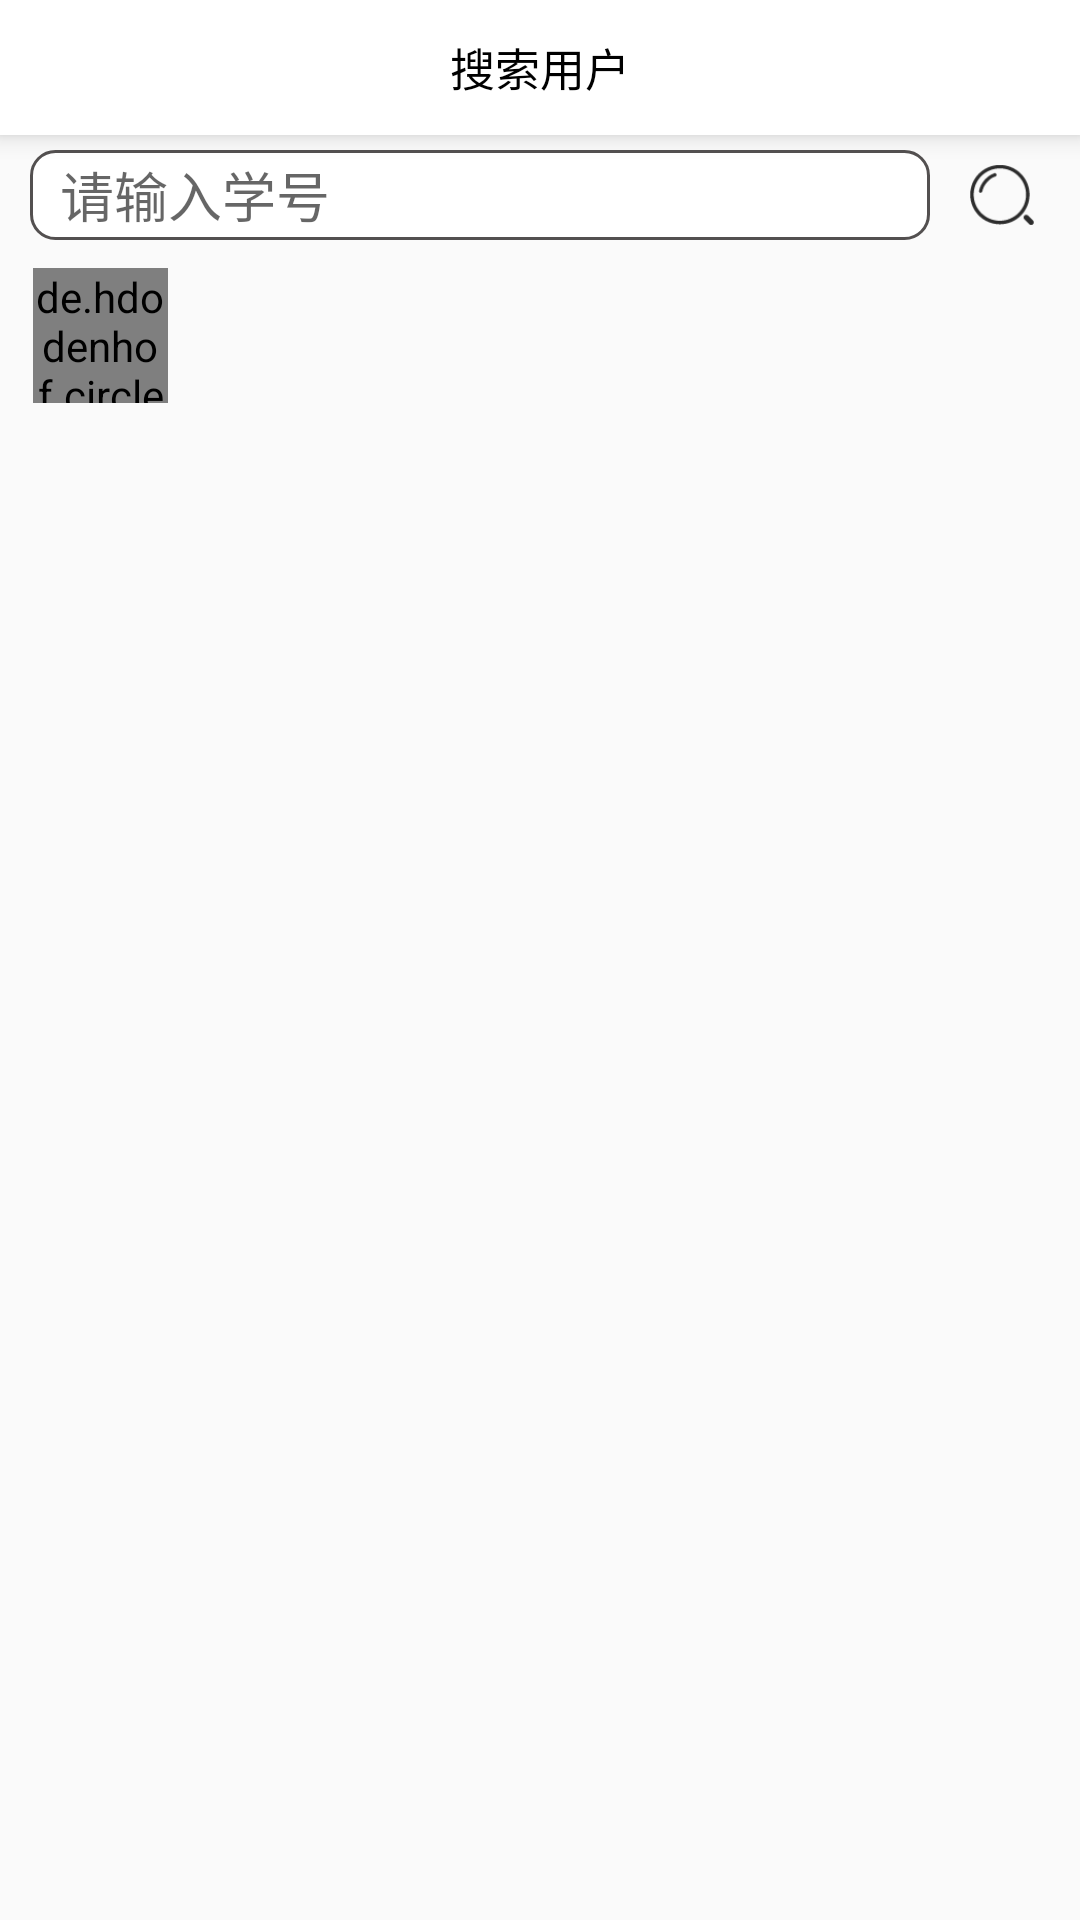

Where icons sit on this 1080×1920 app screen, as region(x1, y1, x2, y2):
find: region(970, 165, 1034, 225)
